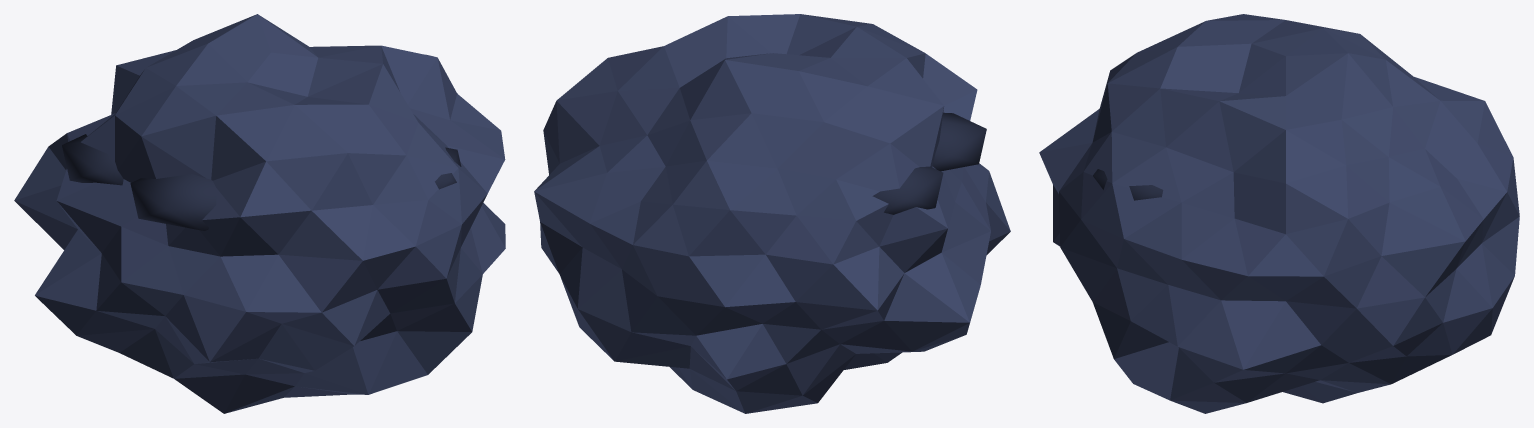
Rendered from asteroid_c.glb.
3 renders of one model, left to right at view 1: azimuth 30°, elevation 25°; view 2: azimuth 150°, elevation 25°; view 3: azimuth 270°, elevation 25°, orthographic.
Parts seen in each view (by area): view 1: asteroid_c; view 2: asteroid_c; view 3: asteroid_c.
Boxes of the visible parts, <box> form: asteroid_c: <box>14,14,505,413</box>; asteroid_c: <box>534,14,1010,413</box>; asteroid_c: <box>1039,14,1519,413</box>.
Bounding box in the file's own units: 2.01 × 1.5 × 1.93.
